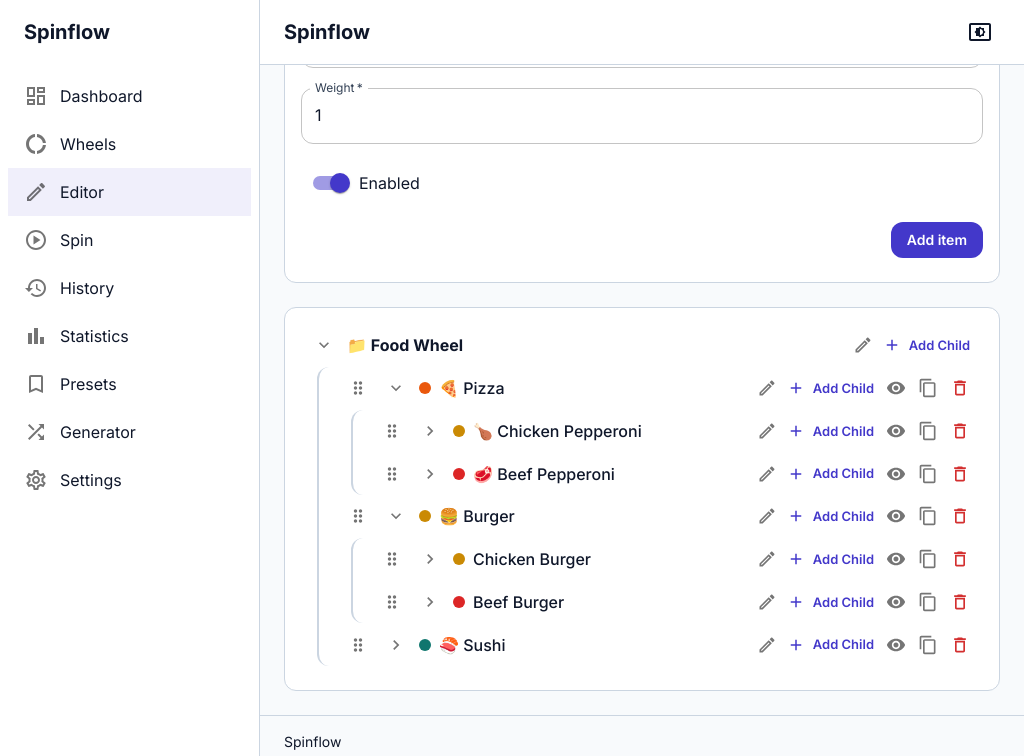
Test case: WheelEditorScreen › collapses and expands nested children
(page scrolled)
Click the button named "Collapse Pizza" at point(396, 388), box x1=381 y1=373 x2=411 y2=403
(page scrolled)
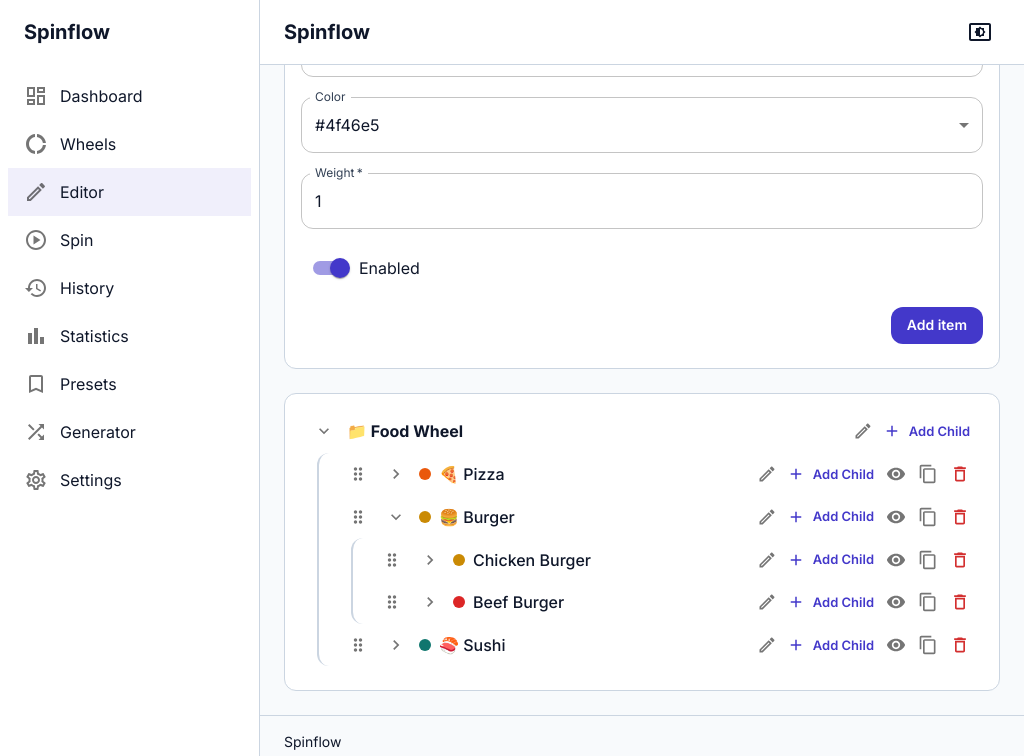
Check: the text "🍗 Chicken Pepperoni" is gone
Check: the button named "Expand Pizza" is shown
Click the button named "Expand Pizza" at point(396, 474), box x1=381 y1=459 x2=411 y2=489
(page scrolled)
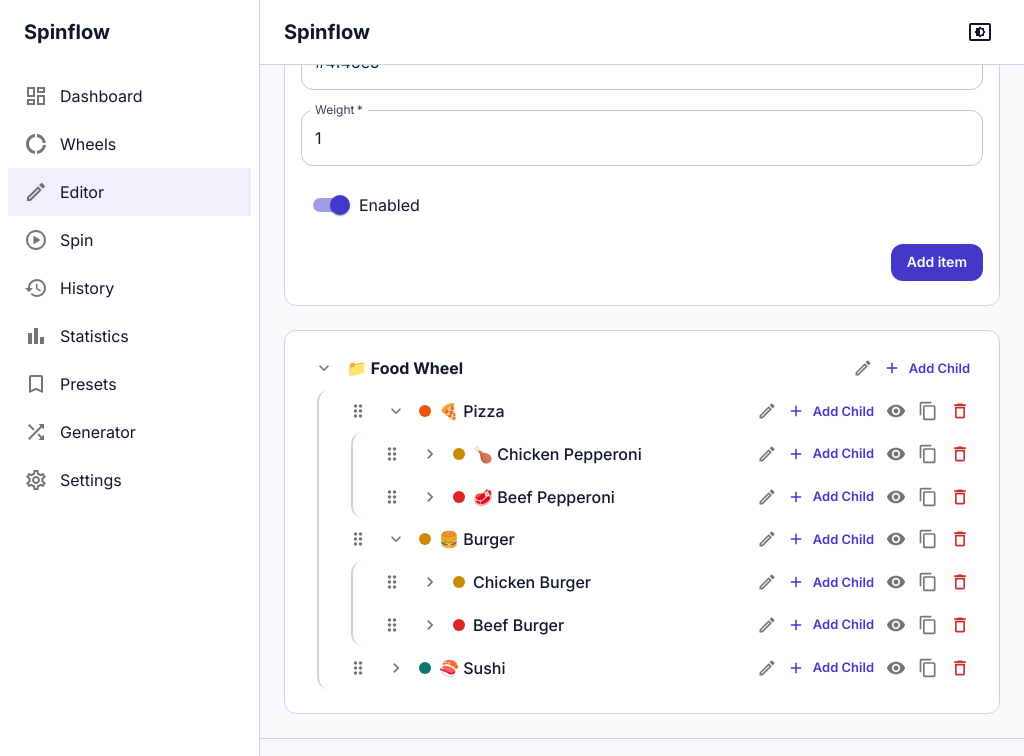
Check: the text "🍗 Chicken Pepperoni" is shown, box x1=473 y1=442 x2=642 y2=466
